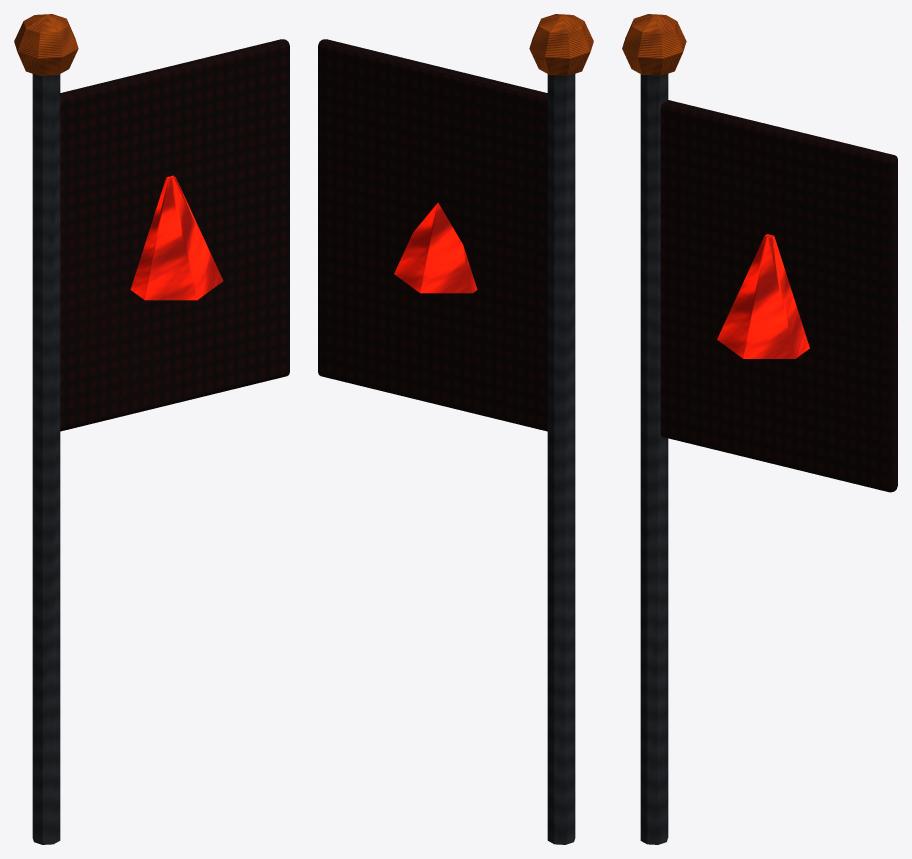
The model's file is SM_FC_EmberBanner.glb.
3 views of the same model, side by side, from view 1: azimuth 30°, elevation 25°; view 2: azimuth 150°, elevation 25°; view 3: azimuth 330°, elevation 25° (orthographic).
Visible parts, largest first — view 1: SM_FC_EmberBanner; view 2: SM_FC_EmberBanner; view 3: SM_FC_EmberBanner.
Part boxes in pixels (bbox=[...]): SM_FC_EmberBanner: bbox=[14, 14, 289, 844]; SM_FC_EmberBanner: bbox=[318, 14, 593, 844]; SM_FC_EmberBanner: bbox=[622, 14, 897, 844].
Bounding box in the file's own units: 1.31 × 3.81 × 0.44.
4 materials, 4 textured.
